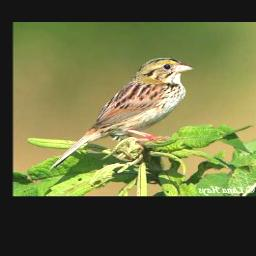Sparrow: (46, 55, 196, 173)
